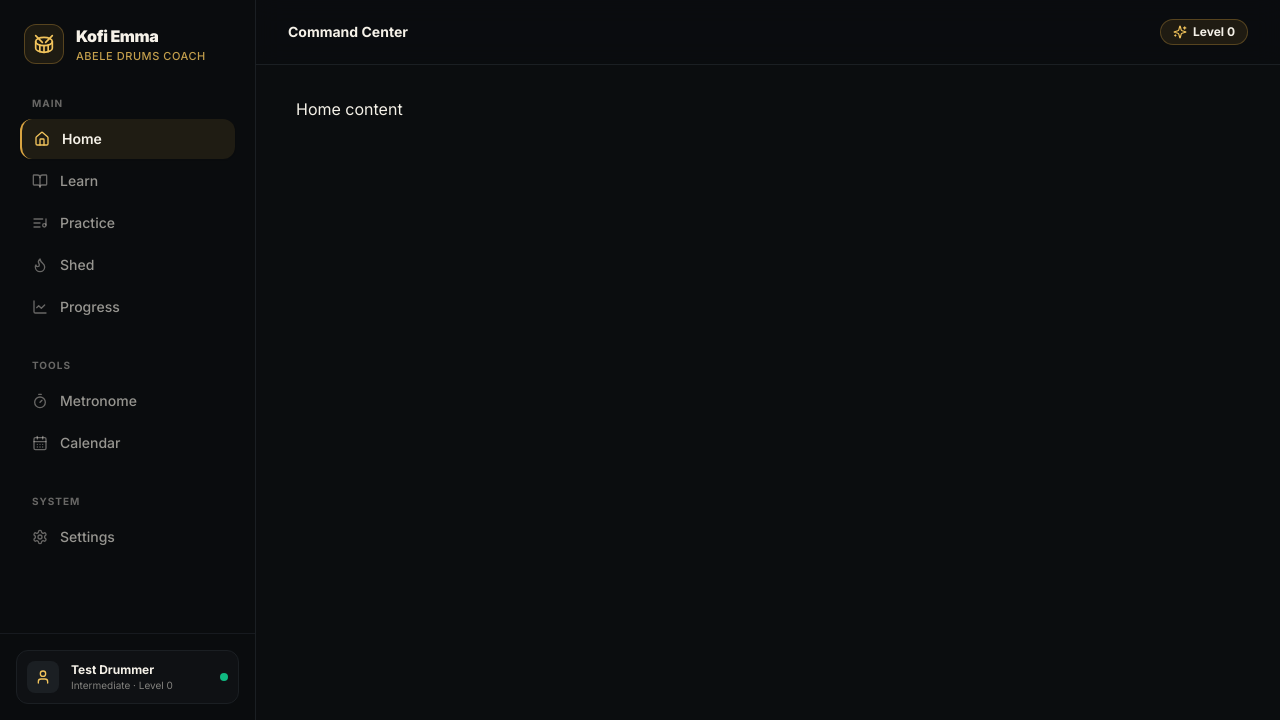
Test: Layout — Settings is reachable on mobile › has a Settings link in the bottom nav (not only the desktop-only nav row)
The image size is (1280, 720).
Click the link "Settings" at [73, 536], box [32,528,115,544]
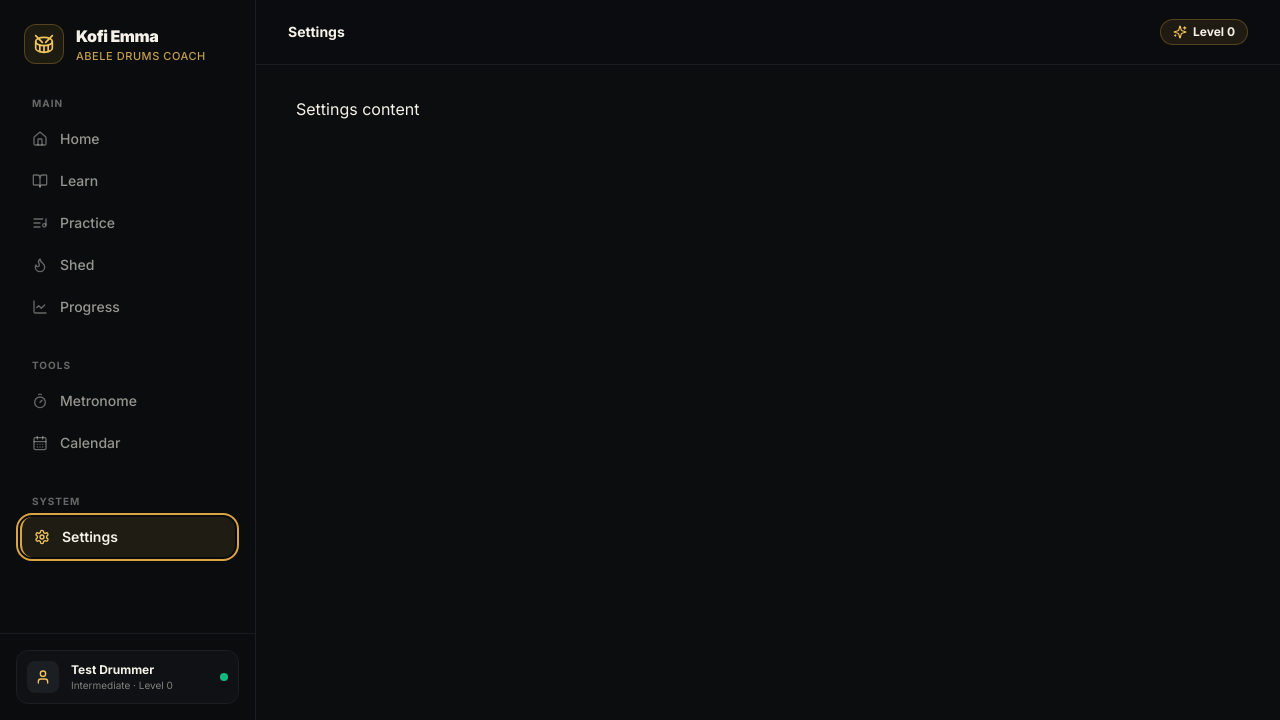
Check: the text "Settings content" is shown, box [296,99,419,119]
